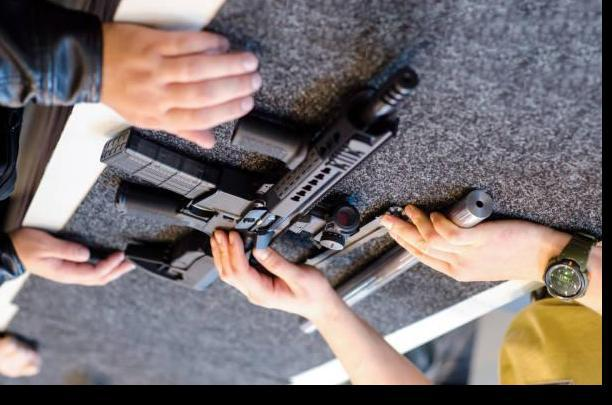larga: (100, 65, 422, 292)
